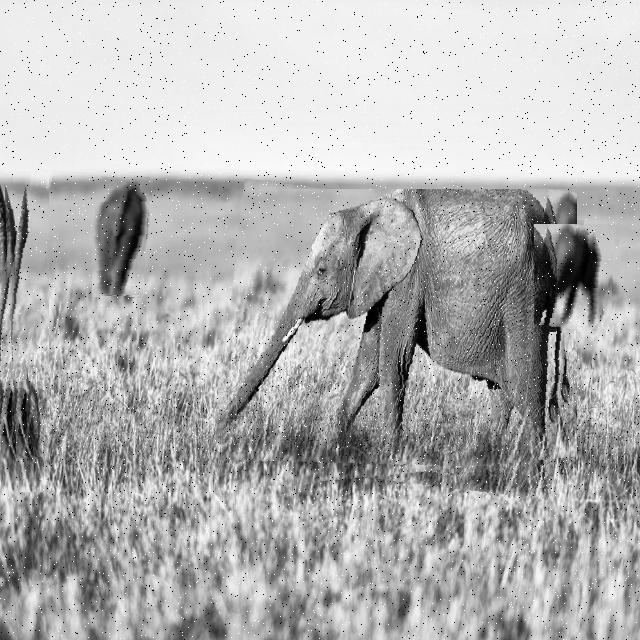elephant: (219, 189, 577, 491), (0, 84, 49, 492), (534, 224, 615, 333), (92, 177, 150, 297)
